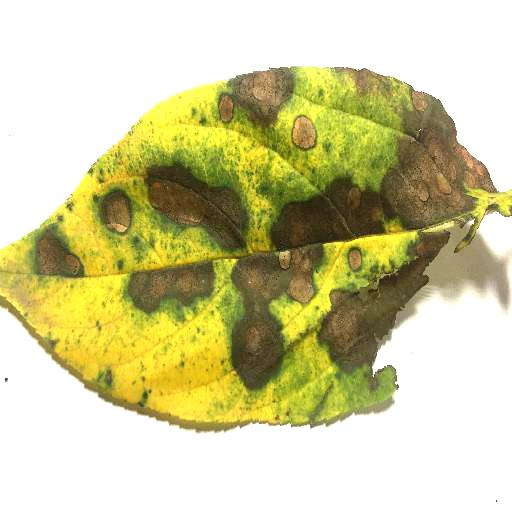Brown_Spot: (320, 240, 442, 366), (385, 107, 484, 220), (141, 178, 236, 248), (231, 255, 277, 384), (275, 193, 388, 243), (124, 272, 212, 302), (281, 251, 315, 306), (30, 237, 75, 272), (242, 79, 283, 117), (291, 117, 316, 153), (103, 196, 125, 236), (347, 246, 363, 274), (217, 98, 231, 124)
